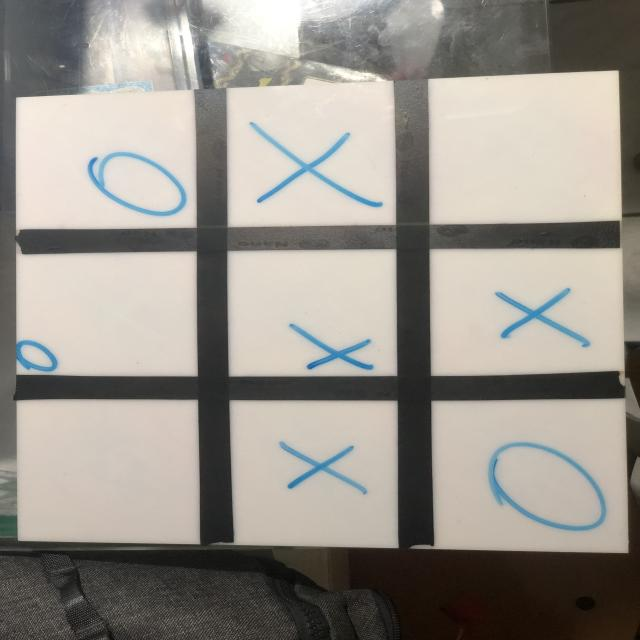null: (429, 78, 617, 221), (17, 398, 201, 540)
o: (484, 434, 610, 534), (74, 146, 191, 220), (18, 338, 61, 374)
table: (4, 72, 633, 568)
x: (247, 123, 382, 215), (278, 438, 378, 502), (494, 289, 590, 352), (277, 313, 374, 375)
